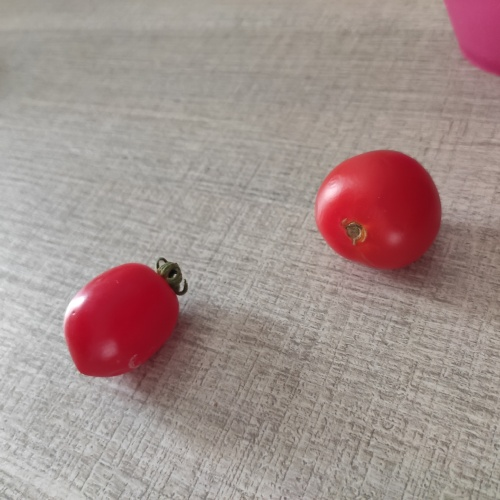pomodoro: (55, 254, 194, 382), (311, 148, 441, 271)
